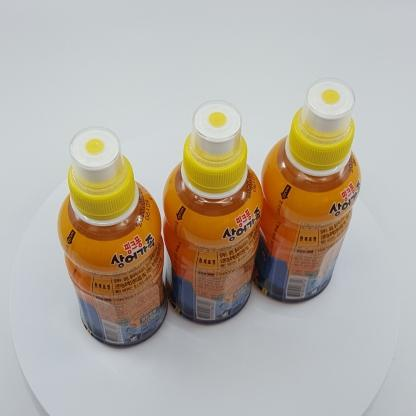----------235ML: (248, 77, 362, 303), (57, 126, 168, 347), (162, 100, 263, 325)
